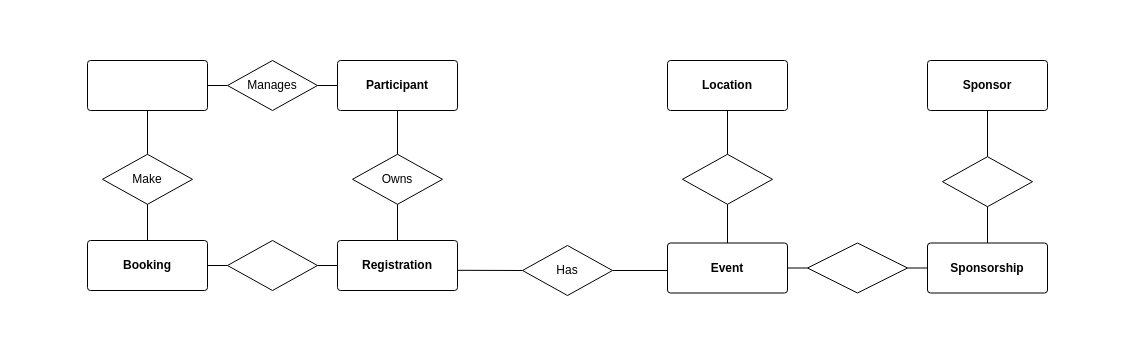
Some shapes in this 1145 by 355 pixel diagram are drawn without their labels. The shapes that lost their labels are listed below. From the top down, each one's centre as x and y in pixels, then its label:
At (147,85): "User_Account".
At (727,178): "Hosts".
At (987,181): "Subscribes".
At (272,265): "Include".
At (857,267): "Receives".
